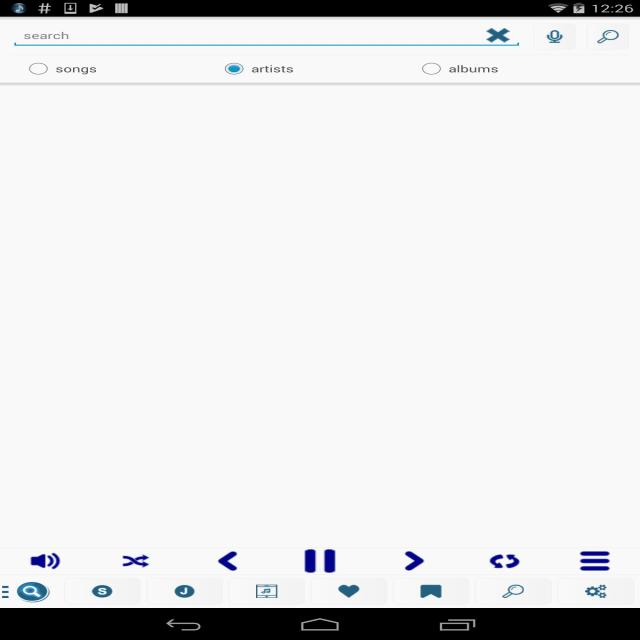button: (471, 543, 538, 576), (284, 547, 354, 575), (234, 578, 304, 604), (149, 579, 221, 604), (16, 546, 74, 577), (479, 580, 551, 604), (73, 579, 136, 606), (398, 580, 465, 605), (318, 580, 386, 604), (568, 547, 624, 576), (1, 580, 63, 606), (382, 546, 439, 574), (107, 550, 160, 576), (570, 581, 624, 604), (203, 547, 246, 574), (534, 23, 572, 48), (596, 24, 626, 47), (483, 22, 515, 42), (28, 60, 50, 76), (419, 62, 443, 76), (224, 61, 245, 77)
field: (17, 22, 517, 44)
label: (19, 29, 70, 42), (446, 64, 499, 75), (52, 65, 100, 75), (249, 65, 296, 75)
